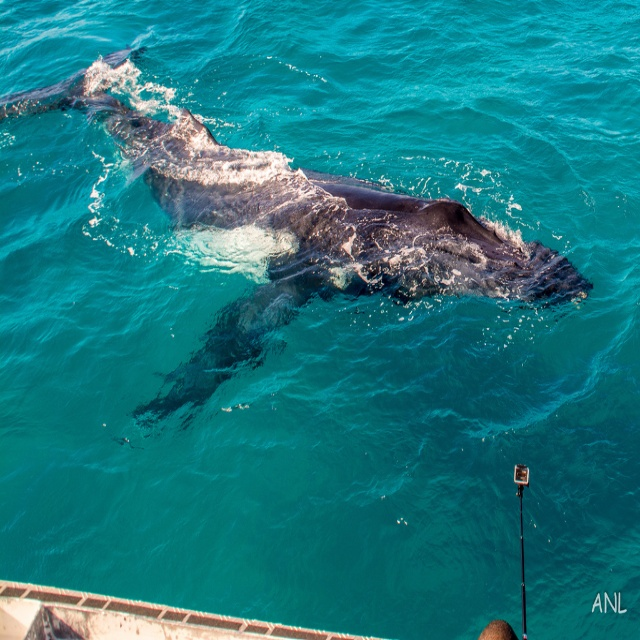Whale: (0, 44, 594, 450)
